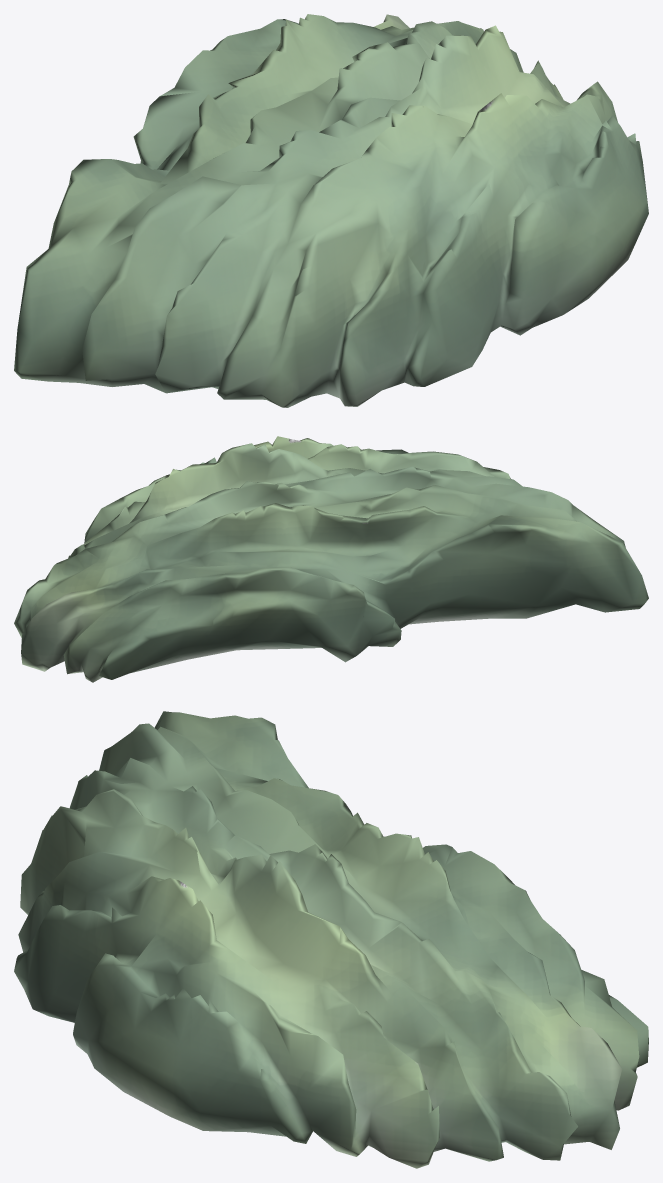
The model's file is Forest Moss_LOD1.fbx.
3 views of the same model, one above another, from view 1: azimuth 30°, elevation 25°; view 2: azimuth 150°, elevation 25°; view 3: azimuth 270°, elevation 25° (orthographic). The views are drawn at different scales.
Parts seen in each view (by area): view 1: Layer_1; view 2: Layer_1; view 3: Layer_1.
Part boxes in pixels (x1,y1,x2,y2): Layer_1: (14,14,648,407); Layer_1: (14,436,648,682); Layer_1: (14,711,648,1168).
Size of the model in its own units: 0.3296 by 0.2725 by 0.1066.
1 material, 1 textured.
